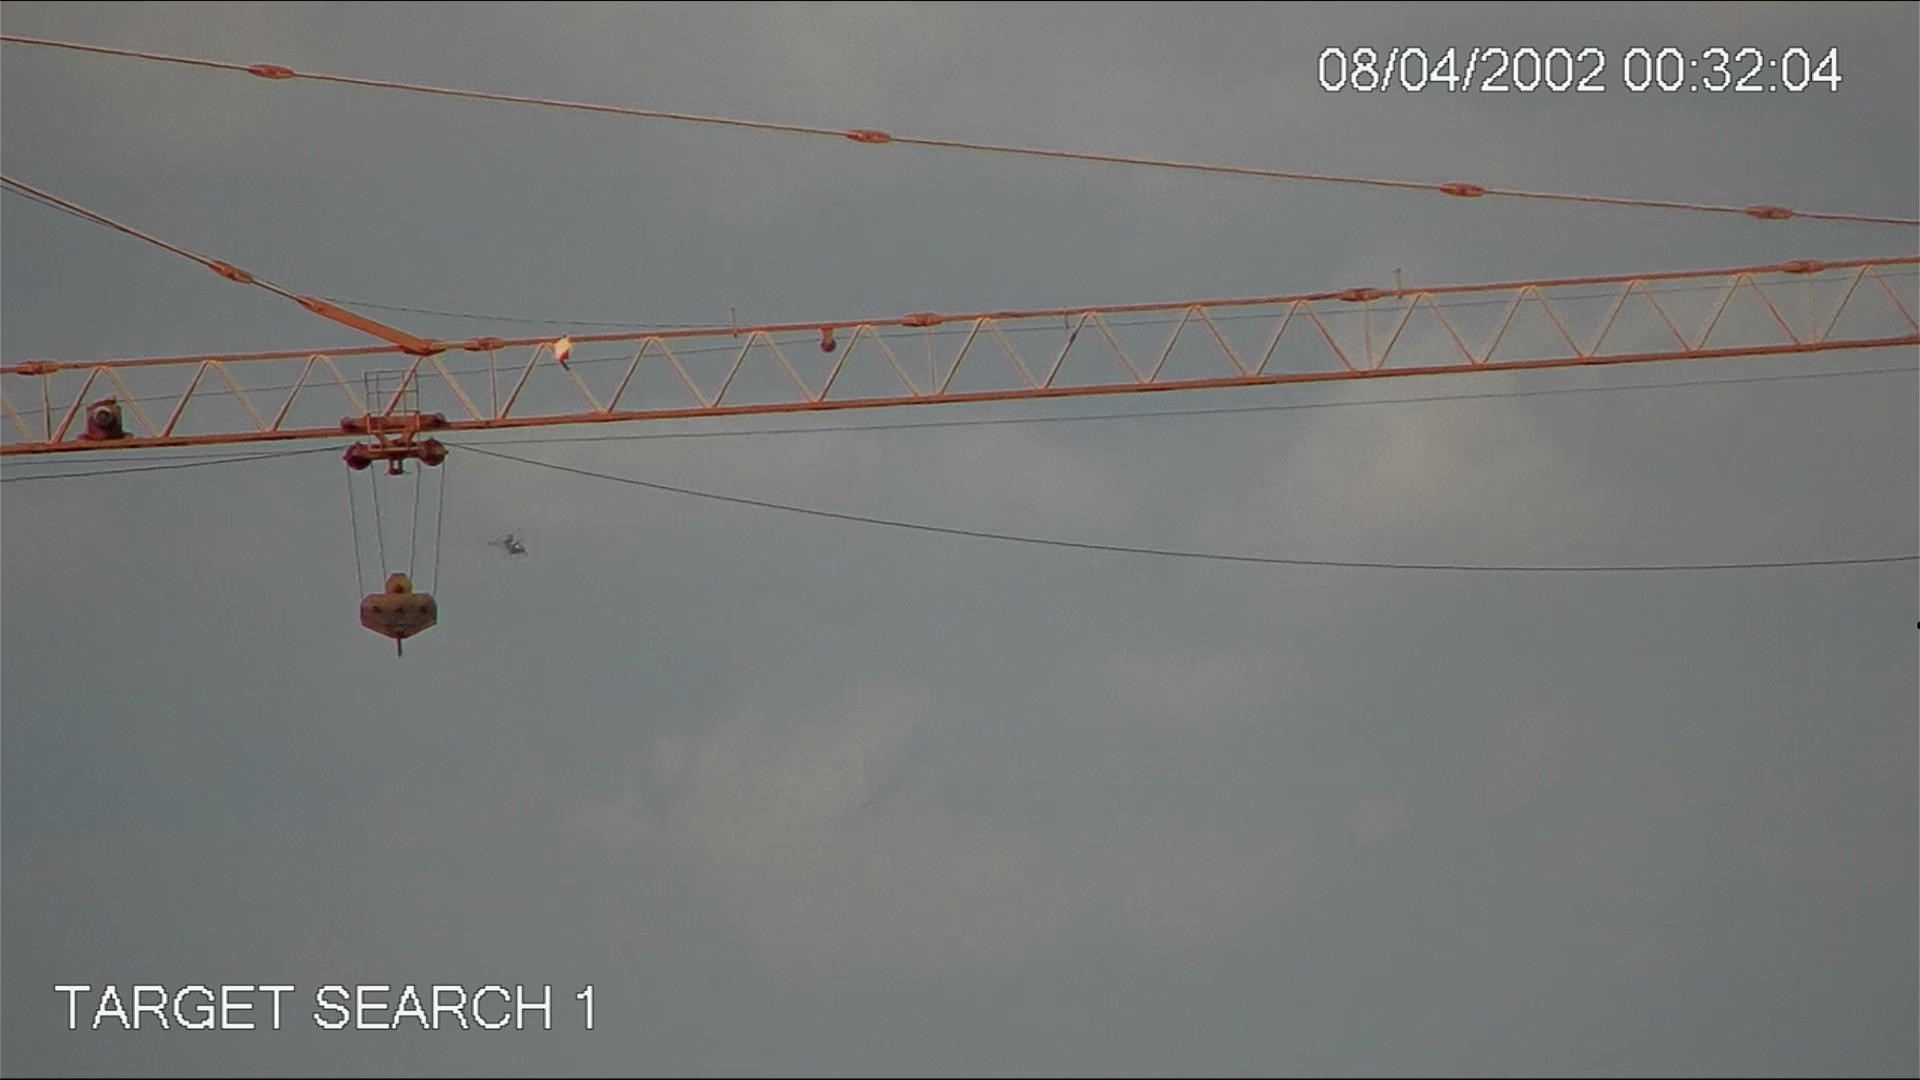SU_30: (480, 529, 535, 564)
